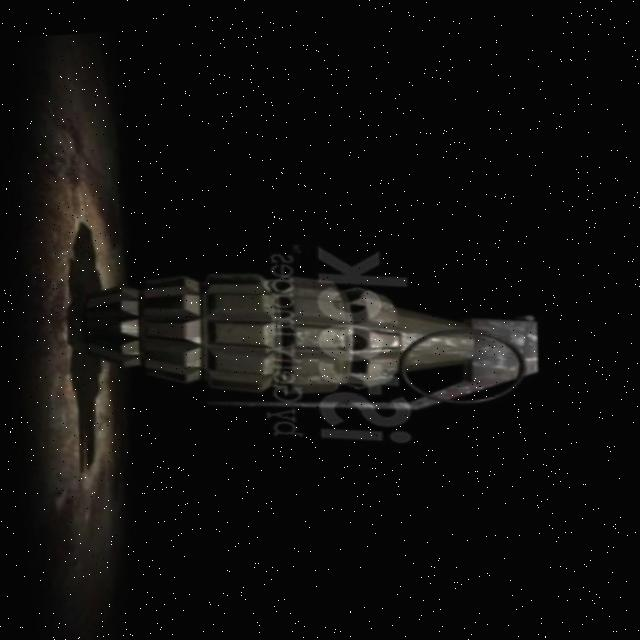grenade: (78, 202, 554, 467)
